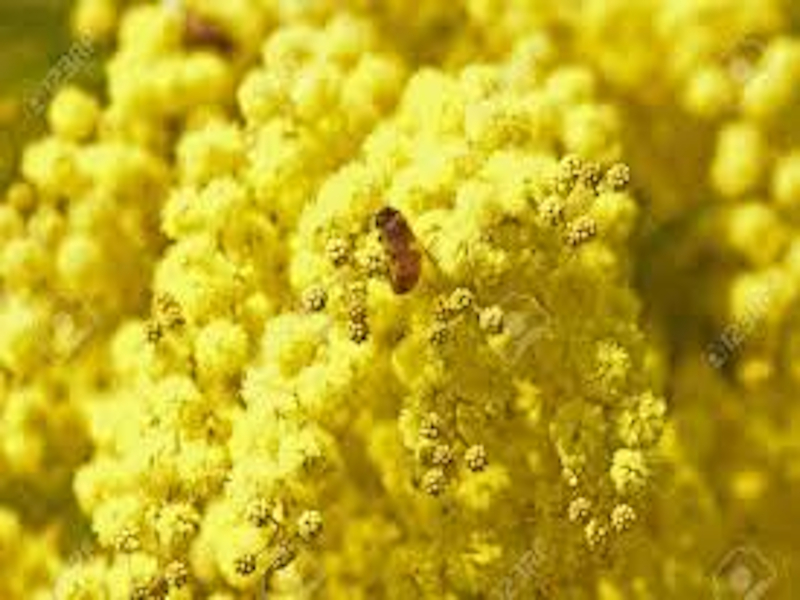abeja: (343, 192, 441, 295)
